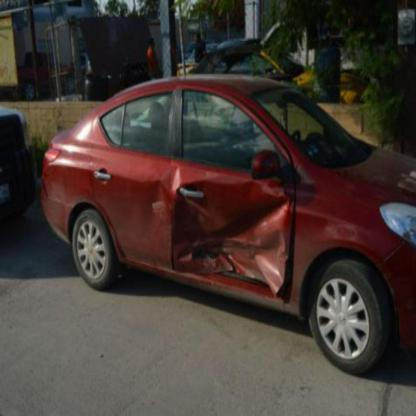door: (91, 145, 294, 305)
front_bumper: (376, 242, 414, 346)
headlamp: (380, 203, 415, 241), (40, 148, 60, 172)
hood: (302, 148, 416, 208)
